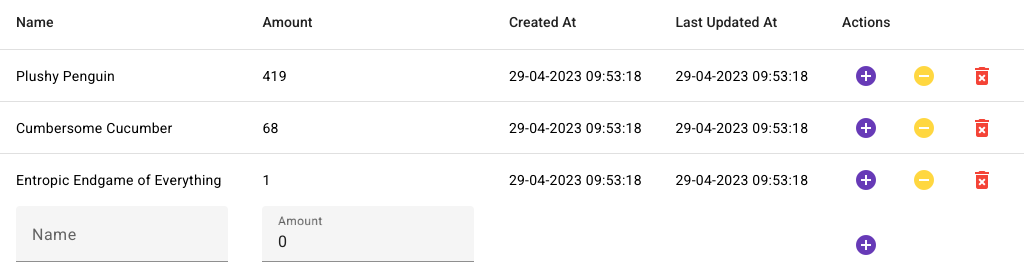
Inventory E2E › GIVEN the inventory is not empty › AND item amount > 1 › WHEN user clicks the decrement button THEN the amount should be decremented
The width and height of the screenshot is (1024, 279).
Expected: the cell with test id "amount-1" reads "419", [262,68,286,84]
Click the button with test id "decrement-btn-1": click(924, 76) [900,52,948,100]
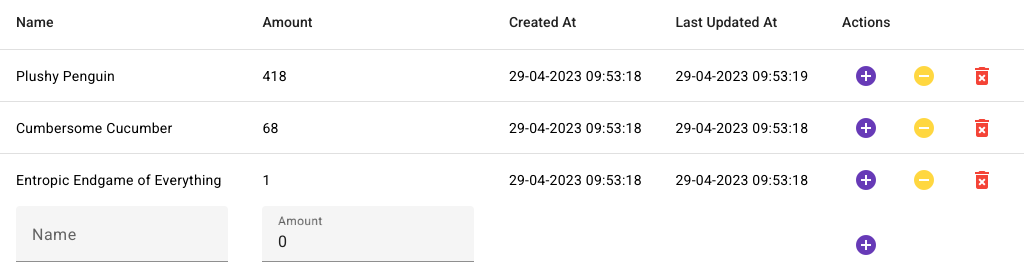
Result: the cell with test id "amount-1" reads "418" at [262,68,286,84]
